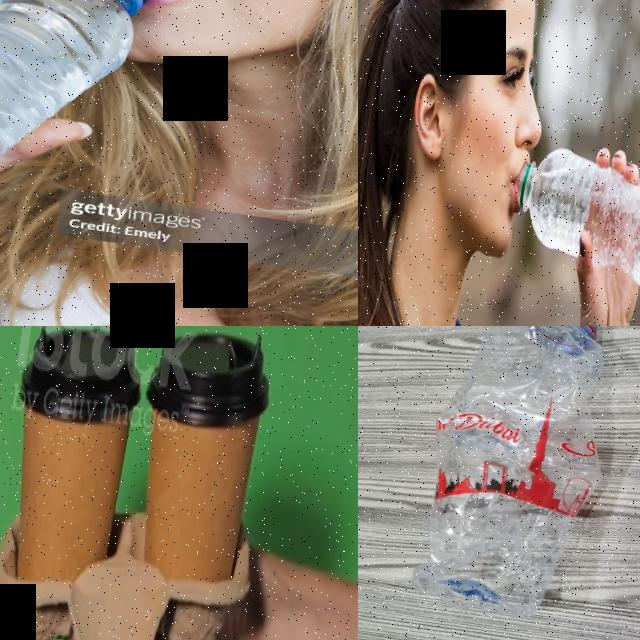bottle: (400, 326, 640, 620), (0, 0, 159, 229), (505, 142, 640, 296)
cup: (121, 326, 278, 588), (0, 326, 151, 594)
